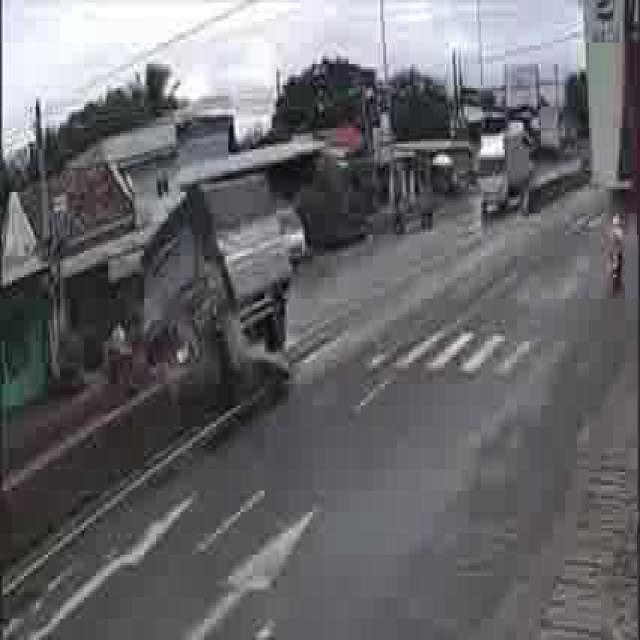single accident: (126, 174, 299, 409)
